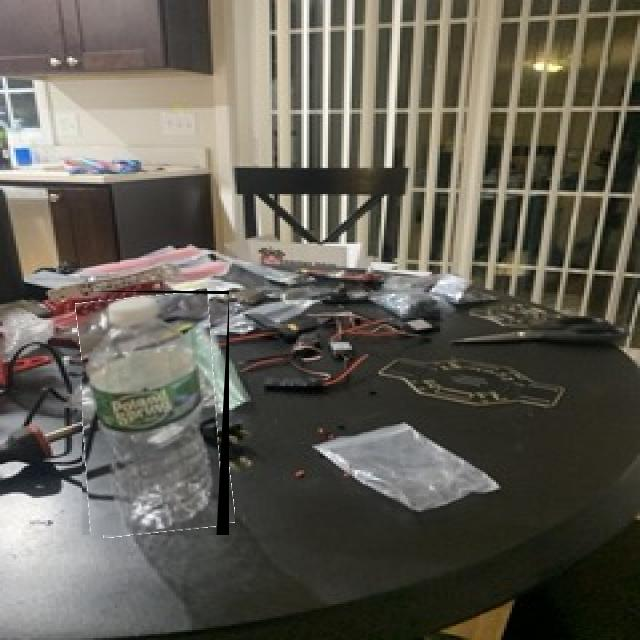water_bottle: (82, 291, 229, 535)
